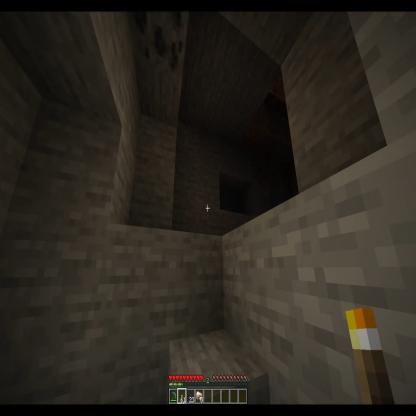coal ore: (121, 0, 189, 75)
